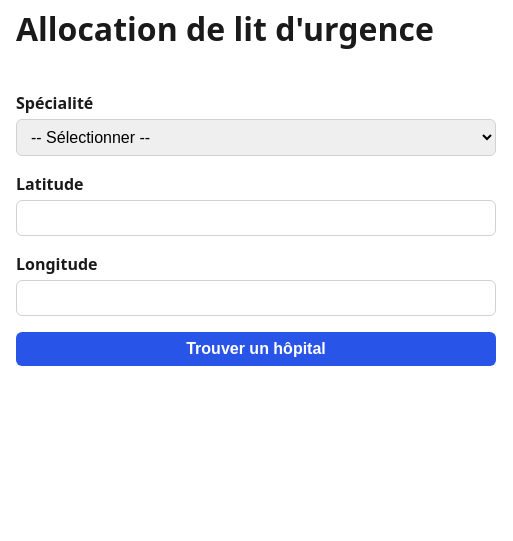
BedAllocationForm › affiche l'hôpital proposé au succès
Select "Cardiologie" in the dropdown labelled "Spécialité": (256, 137) [16,119,496,156]
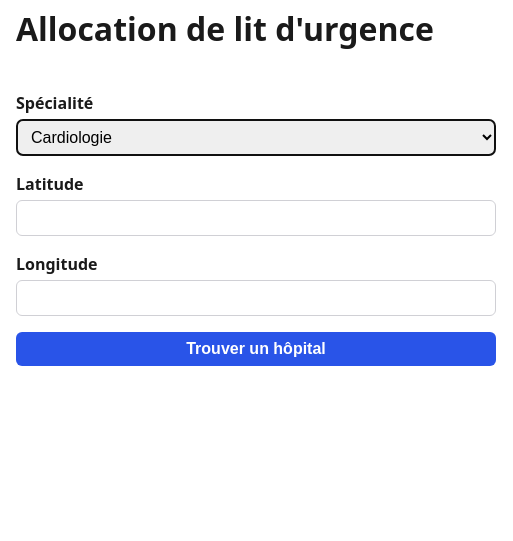
In the number field labelled "Latitude": (256, 218) [16,200,496,236], type "48.8566"
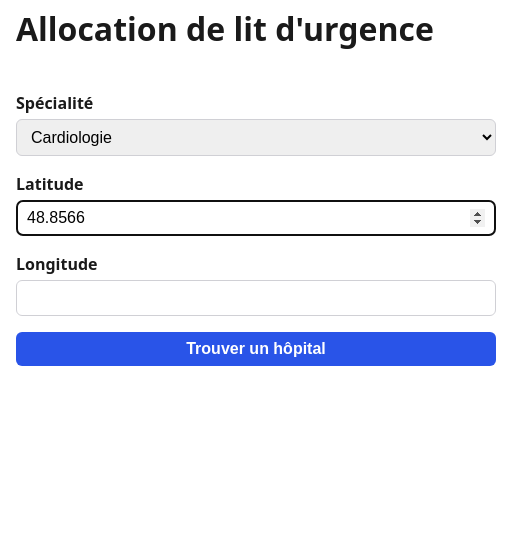
In the number field labelled "Longitude": (256, 298) [16,280,496,316], type "2.3522"
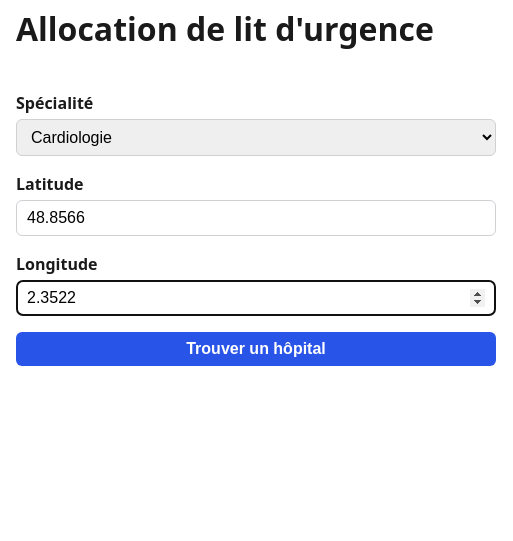
Click the button "Trouver un hôpital": click(256, 349) [16,332,496,366]
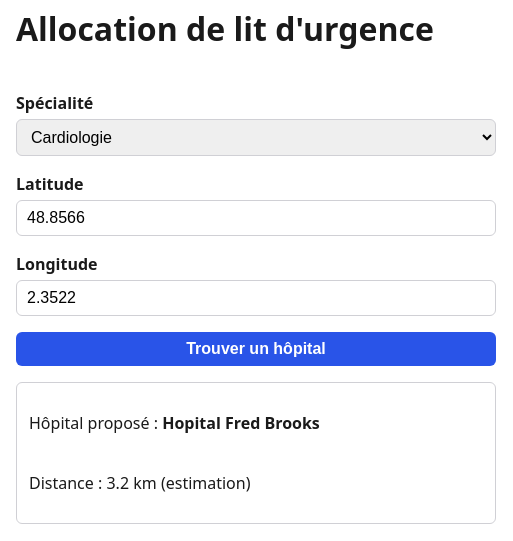
Check: the text "Hopital Fred Brooks" is shown, box [162,412,320,434]
Check: the text "Distance : 3.2 km (estimation)" is shown, box [29,472,250,494]
